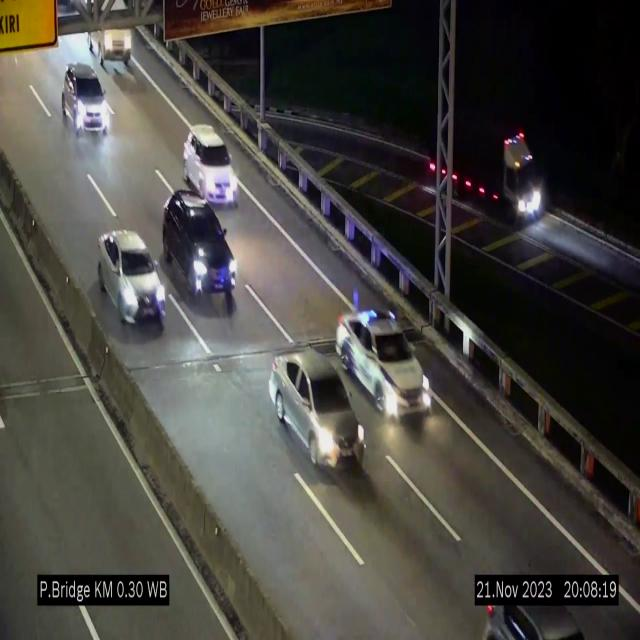Car: (267, 346, 367, 475), (334, 305, 434, 426), (162, 190, 236, 312), (98, 231, 166, 329), (482, 596, 582, 640), (183, 125, 239, 203), (86, 0, 138, 66), (61, 66, 110, 134)
Truck: (435, 101, 537, 215)
